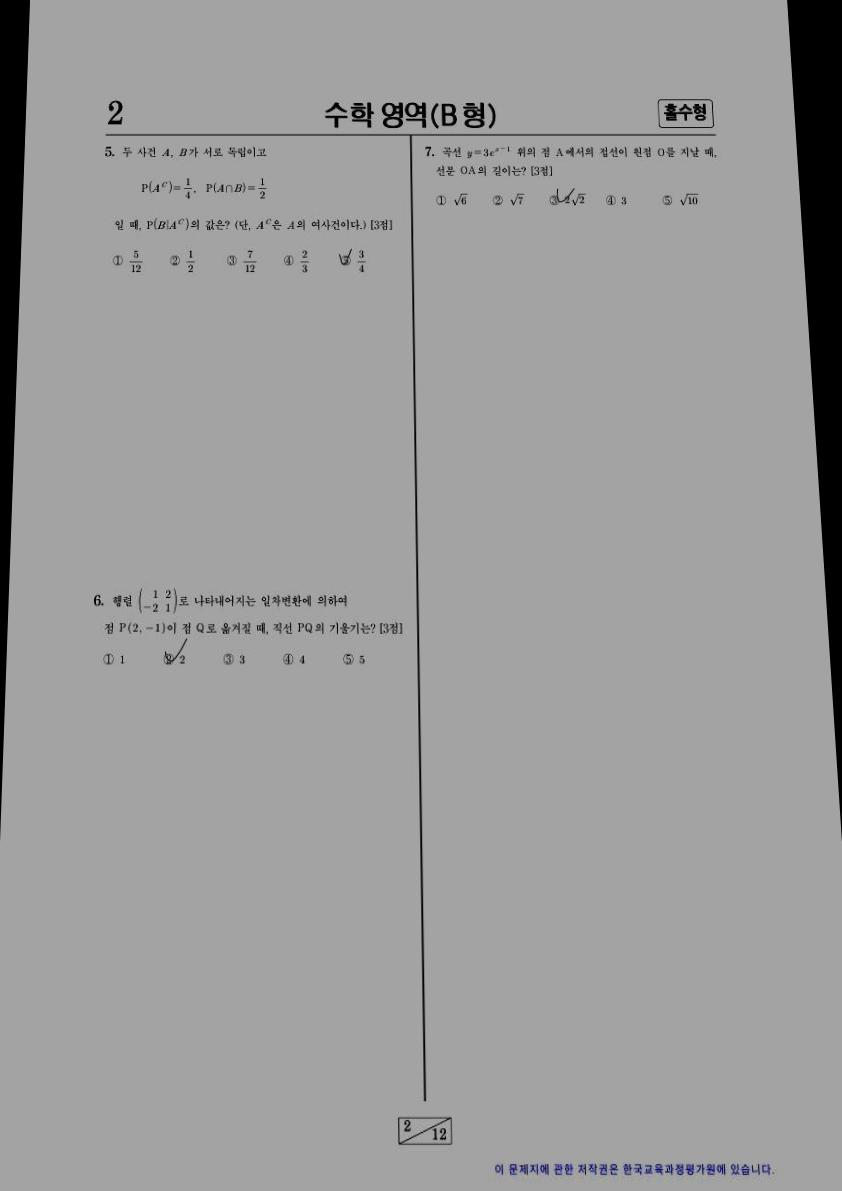question: (88, 138, 403, 291), (72, 581, 411, 685), (412, 136, 729, 232)
